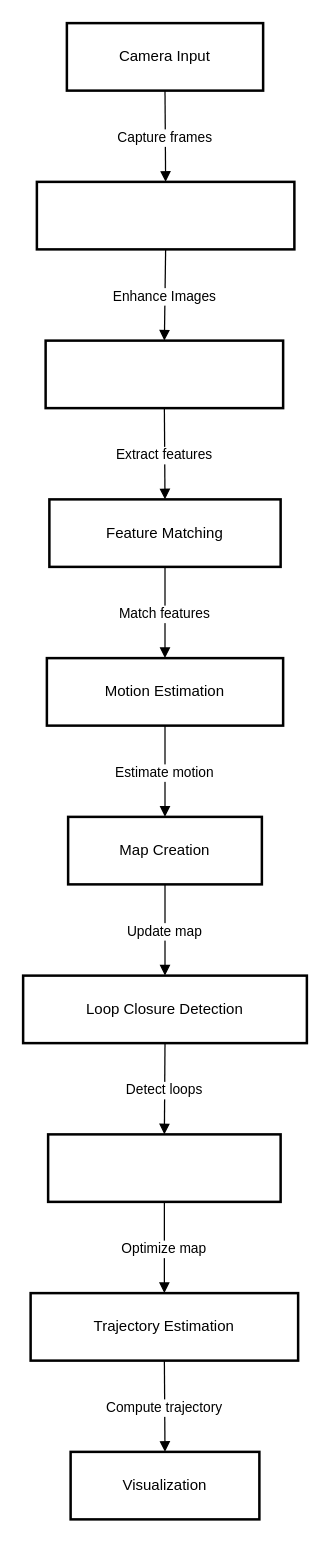
The diagram is 329 pixels wide and 1541 high, and some of its shapes have lost their labels. Each missing label, with the box of its shape:
Feature Detection: (44, 339, 284, 409)
Image Preprocessing: (35, 180, 295, 250)
Map Optimization: (46, 1132, 281, 1202)
